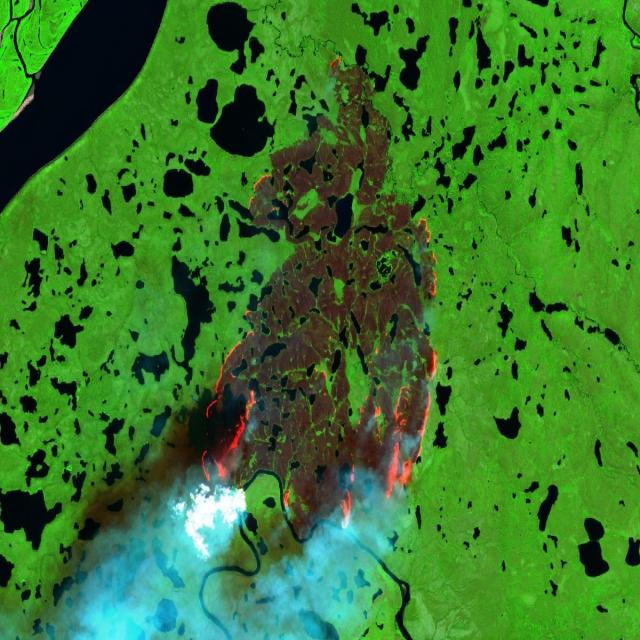fire: (194, 47, 446, 547)
